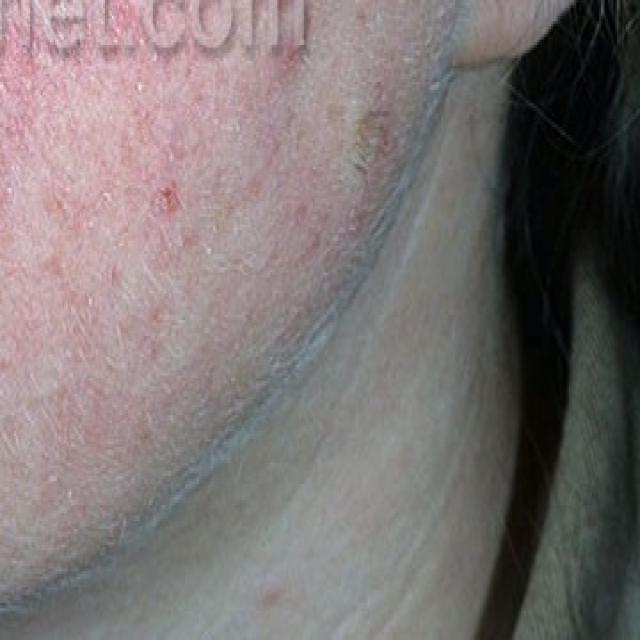Rosacea: (0, 41, 294, 321)
